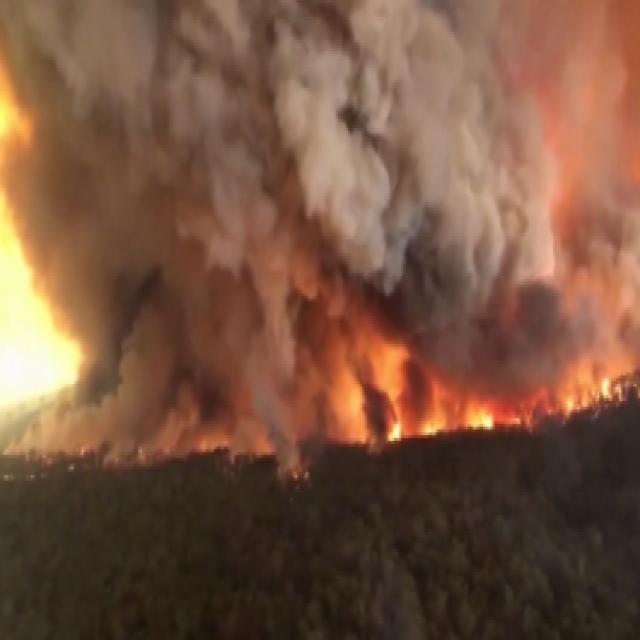Smoke: (0, 0, 639, 482)
